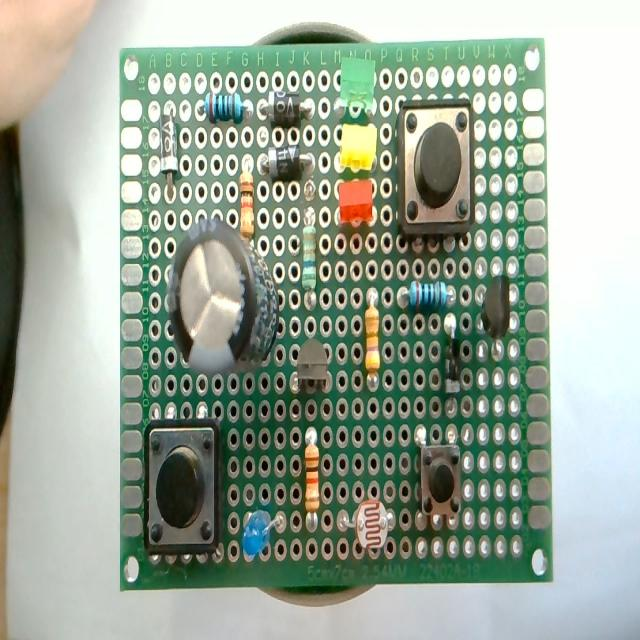Electrolytic capacitor: (165, 215, 276, 374)
cds: (338, 492, 396, 551)
diode: (260, 86, 310, 132), (260, 144, 314, 180), (160, 109, 178, 197), (443, 313, 460, 390)
led: (333, 59, 379, 114), (241, 508, 285, 560), (337, 177, 375, 229), (339, 123, 377, 171)
resistor: (296, 204, 322, 304), (202, 91, 251, 124), (408, 281, 454, 311), (304, 428, 320, 513), (364, 294, 380, 378), (238, 169, 254, 240)
switch: (144, 418, 222, 554), (398, 101, 473, 237), (414, 424, 462, 522)
transistor: (290, 340, 332, 396), (481, 274, 510, 338)
